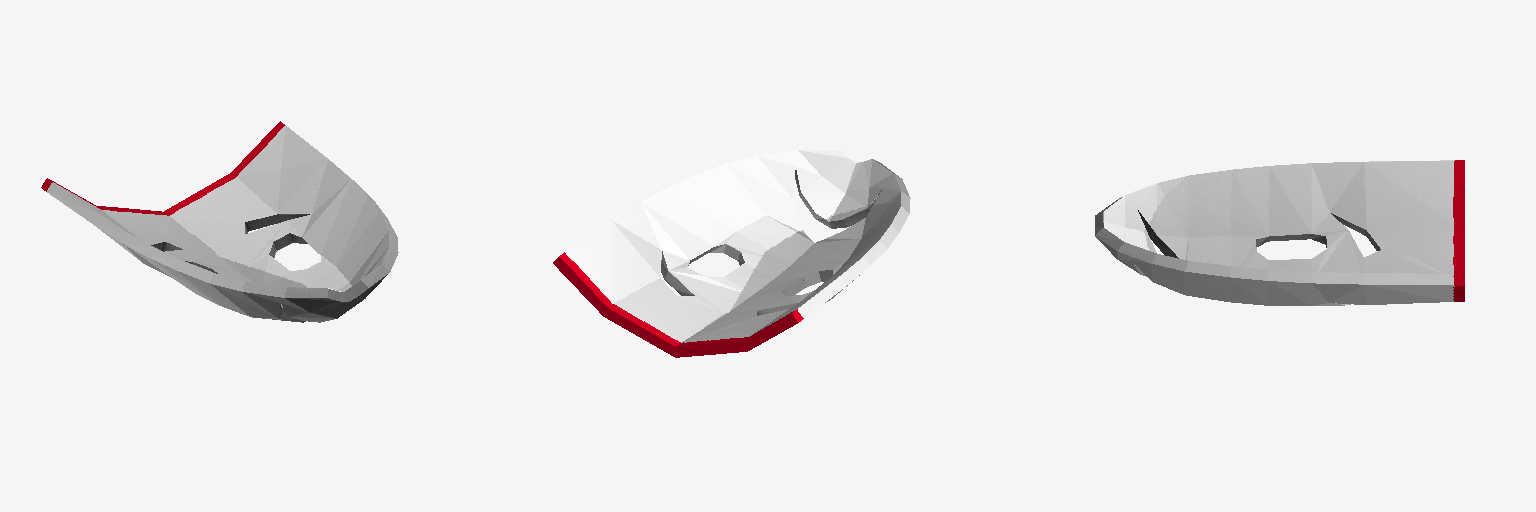
3 views of the same model, side by side, from view 1: azimuth 30°, elevation 25°; view 2: azimuth 150°, elevation 25°; view 3: azimuth 270°, elevation 25° (orthographic).
Parts seen in each view (by area): view 1: Plane.005_Plane.007; view 2: Plane.005_Plane.007; view 3: Plane.005_Plane.007.
Boxes of the visible parts, x1=… form: Plane.005_Plane.007: x1=41, y1=121, x2=398, y2=322; Plane.005_Plane.007: x1=553, y1=150, x2=910, y2=357; Plane.005_Plane.007: x1=1095, y1=160, x2=1464, y2=305.
Size of the model in its own units: 1.31 by 0.3975 by 1.71.
1 materials, 1 textured.